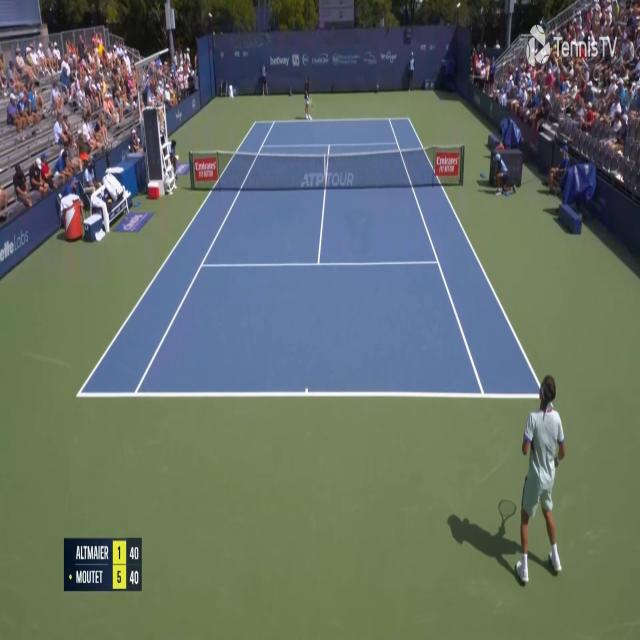tennis-player: (505, 373, 569, 585), (302, 73, 314, 123)
